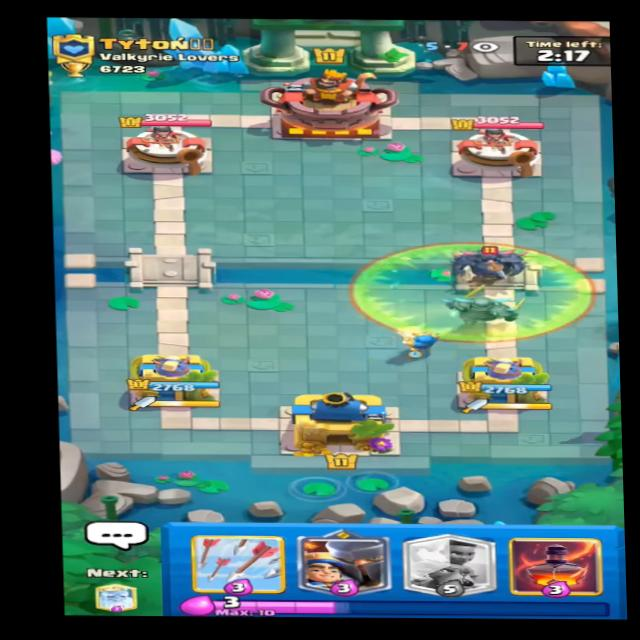Goblincurse: (349, 246, 597, 343)
Pekka: (445, 237, 532, 279)
